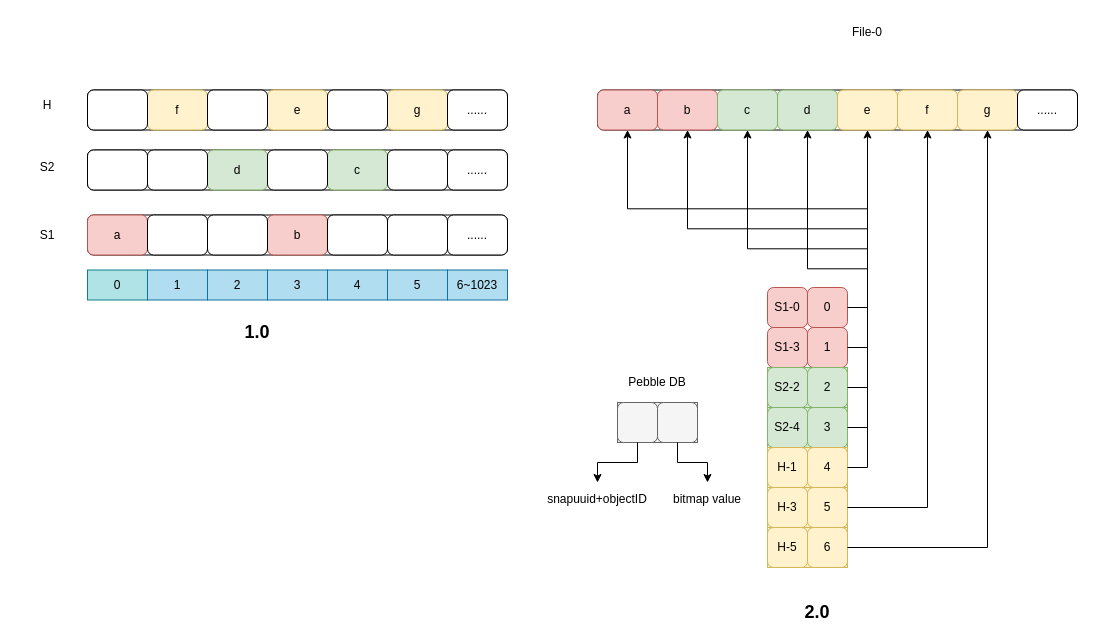
This 1095x644 diagram has some shape labels left out. The shapes that lost their labels are listed below. From the top down, each one's centre as x and y in pixels, then its label:
point 637,422: Key
point 677,422: Value
